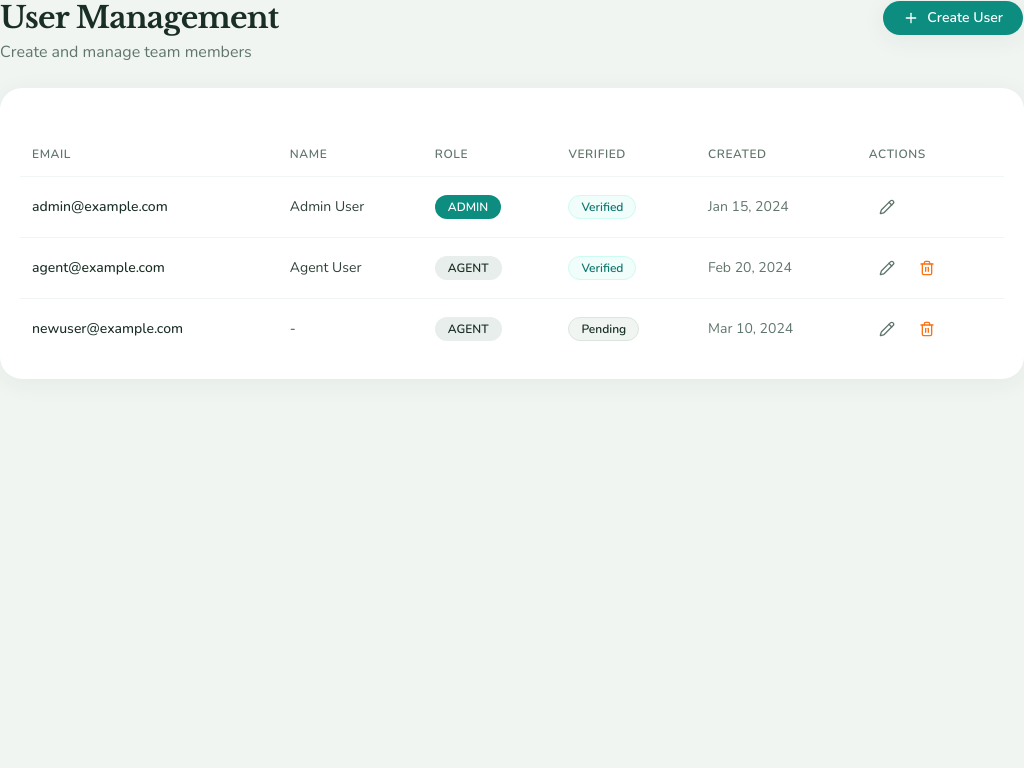
Test: UsersPage - Deletion › successfully deletes user and removes from list
// Open delete modal
Step 1. Click the button named "delete agent user" → coordinates (927, 268), box [909,250,945,286]
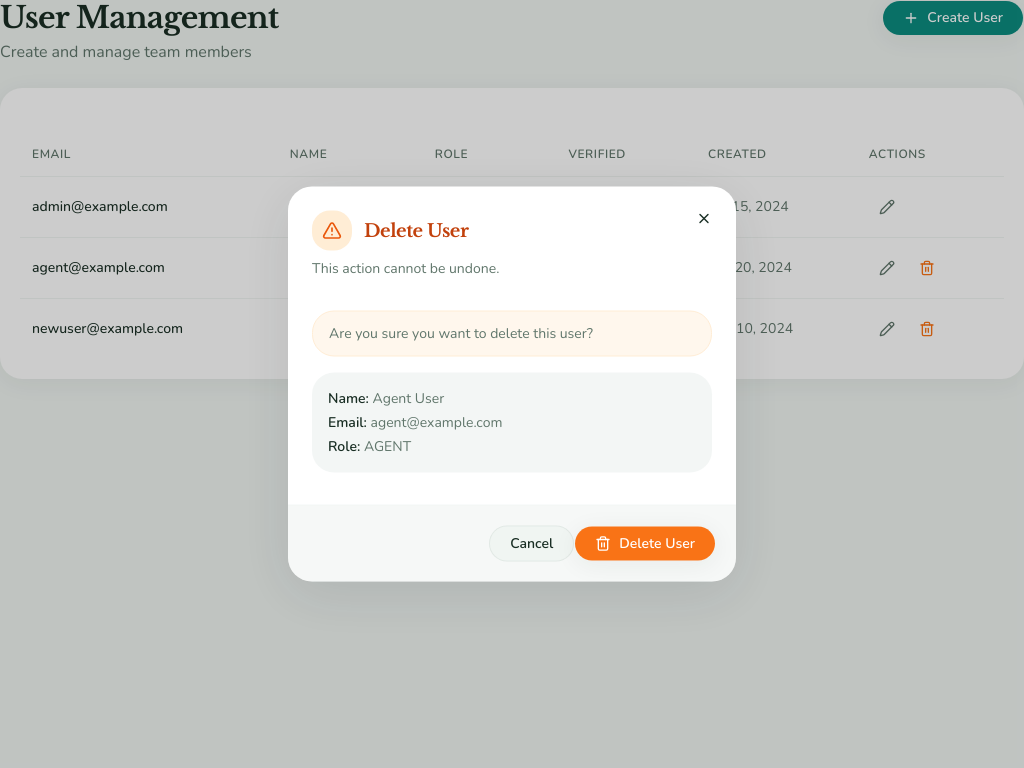
// Confirm deletion
Step 2. Click the button "Delete User" → coordinates (645, 544), box [574,526,716,562]
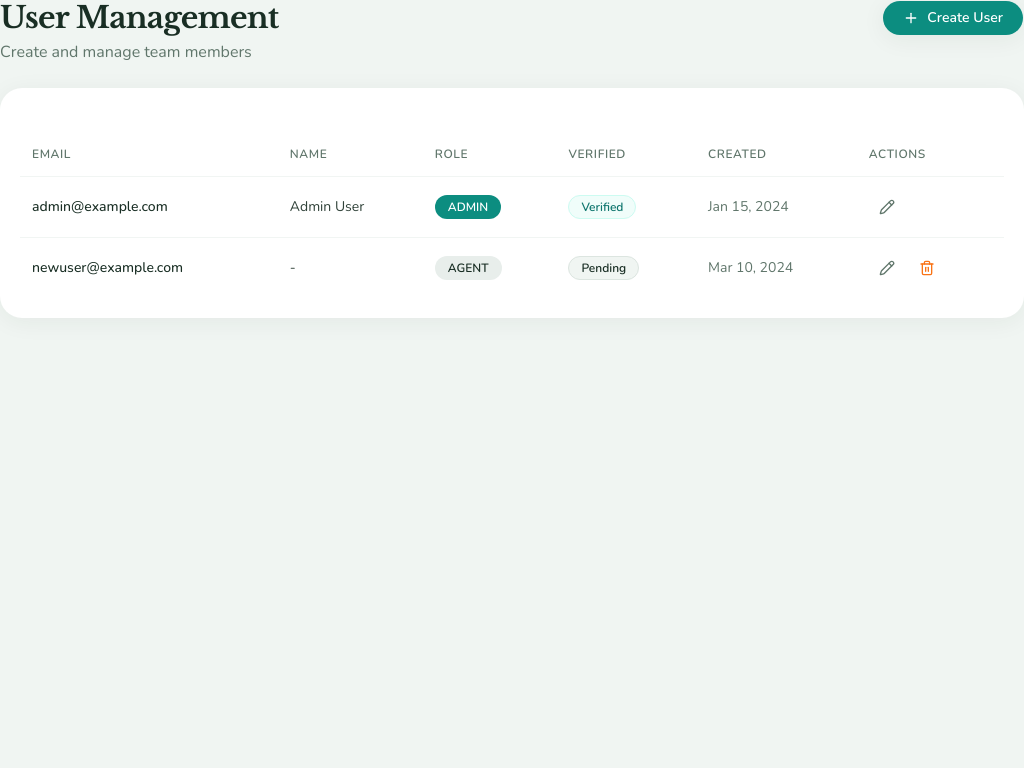
Check: the text "Admin User" is shown, box [278,176,423,237]
Check: the text "Agent User" is not shown
Check: the text "agent@example.com" is not shown
